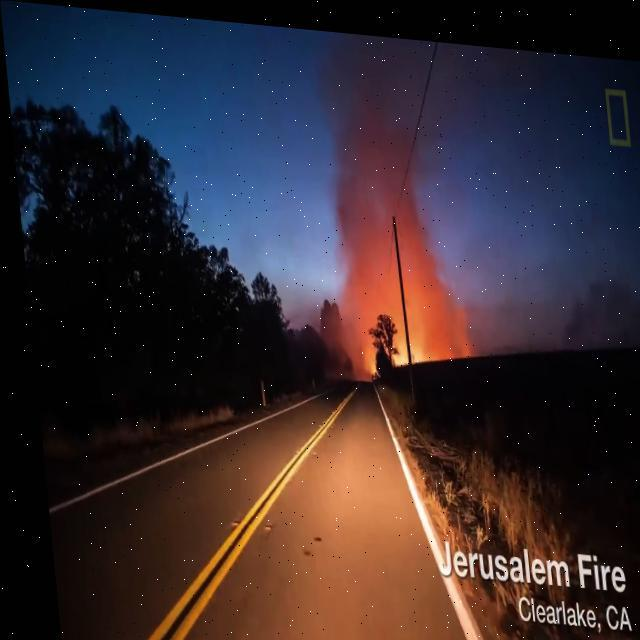Fire: (388, 326, 419, 364)
